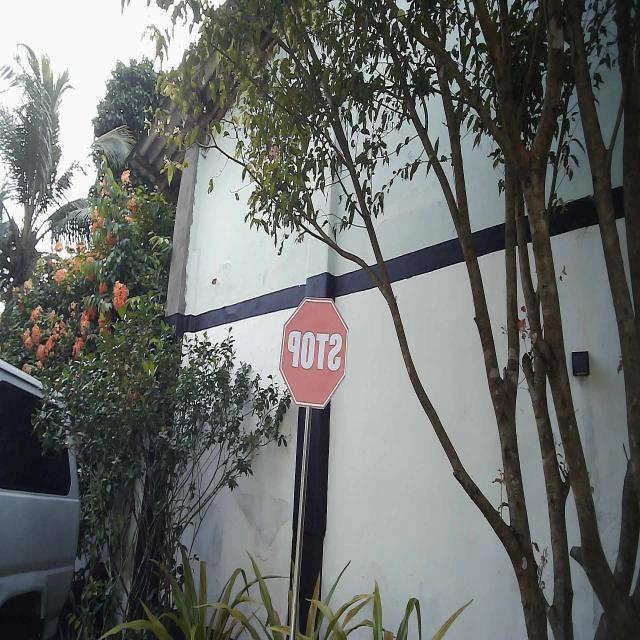stop: (278, 292, 350, 412)
